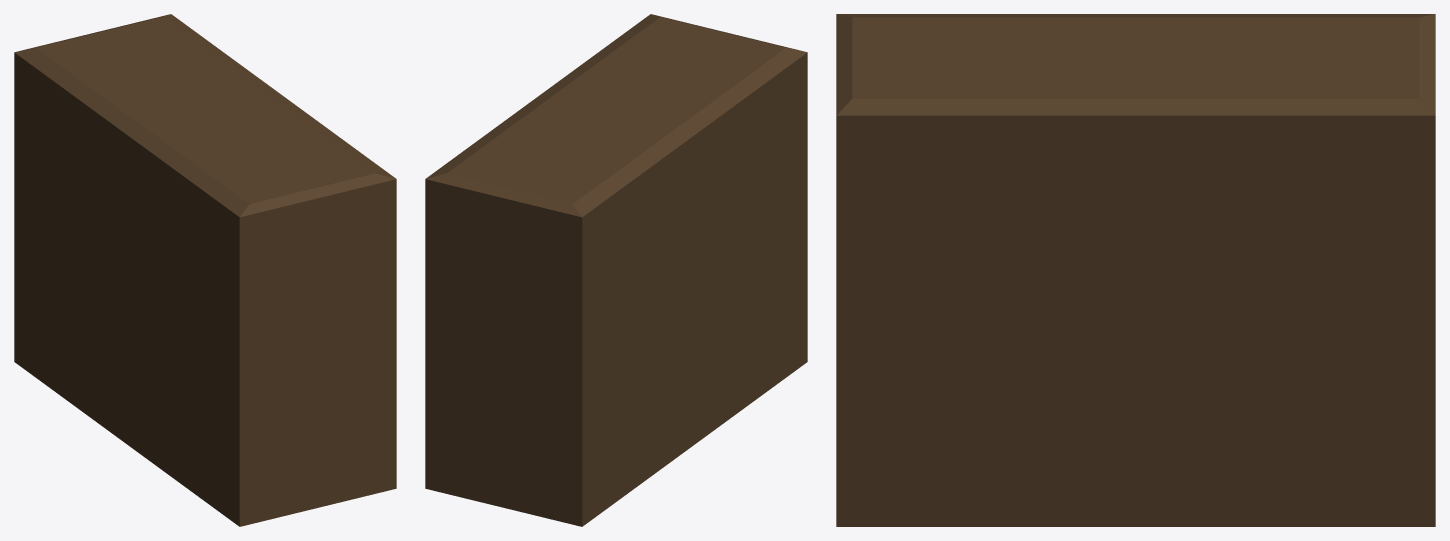
File: Itr_Couch_Outside_Side_04.FBX
3 views of the same model, side by side, from view 1: azimuth 30°, elevation 25°; view 2: azimuth 150°, elevation 25°; view 3: azimuth 270°, elevation 25° (orthographic). The views are drawn at different scales.
Parts seen in each view (by area): view 1: Itr_Couch_Outside_Side_04; view 2: Itr_Couch_Outside_Side_04; view 3: Itr_Couch_Outside_Side_04.
Part boxes in pixels (bbox=[...]): Itr_Couch_Outside_Side_04: bbox=[14, 14, 396, 526]; Itr_Couch_Outside_Side_04: bbox=[425, 14, 807, 526]; Itr_Couch_Outside_Side_04: bbox=[836, 14, 1435, 526].
Size of the model in its own units: 13.12 by 25.52 by 32.64.
